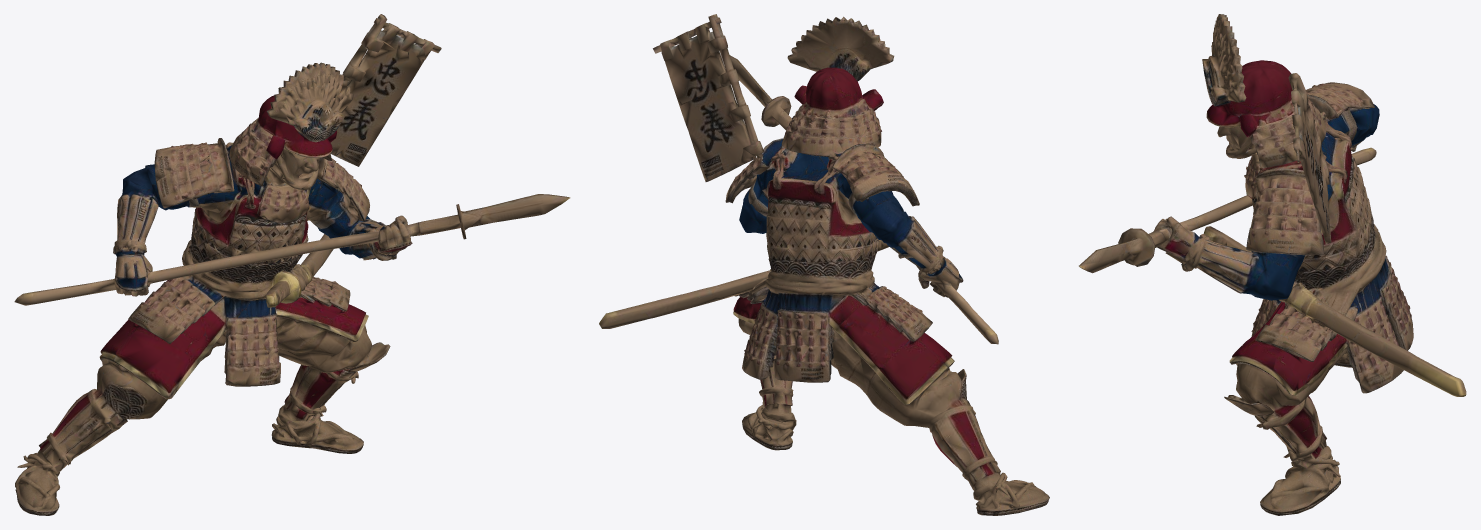
The model's file is samurai-spear.glb.
The picture shows the model from 3 angles, left to right: view 1: azimuth 30°, elevation 25°; view 2: azimuth 150°, elevation 25°; view 3: azimuth 270°, elevation 25°; orthographic projection. The views are drawn at different scales.
Bounding box in the file's own units: 1.9 × 1.72 × 1.32.
Materials: 1 (1 with a texture image).
